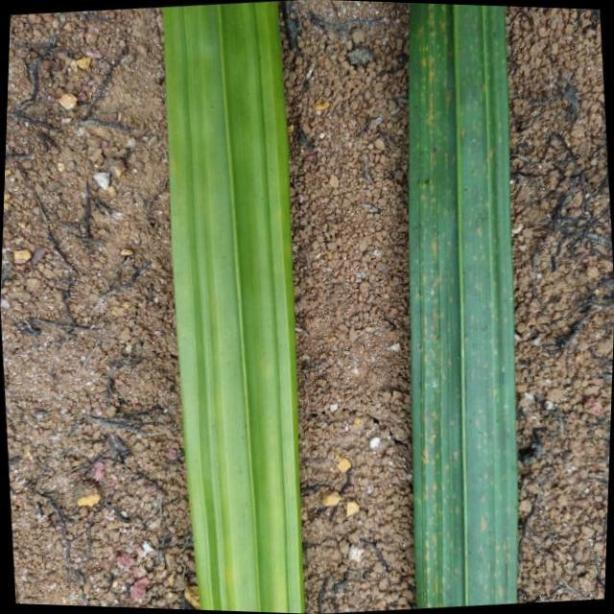nitrogen: (158, 0, 302, 614), (404, 0, 520, 614)
